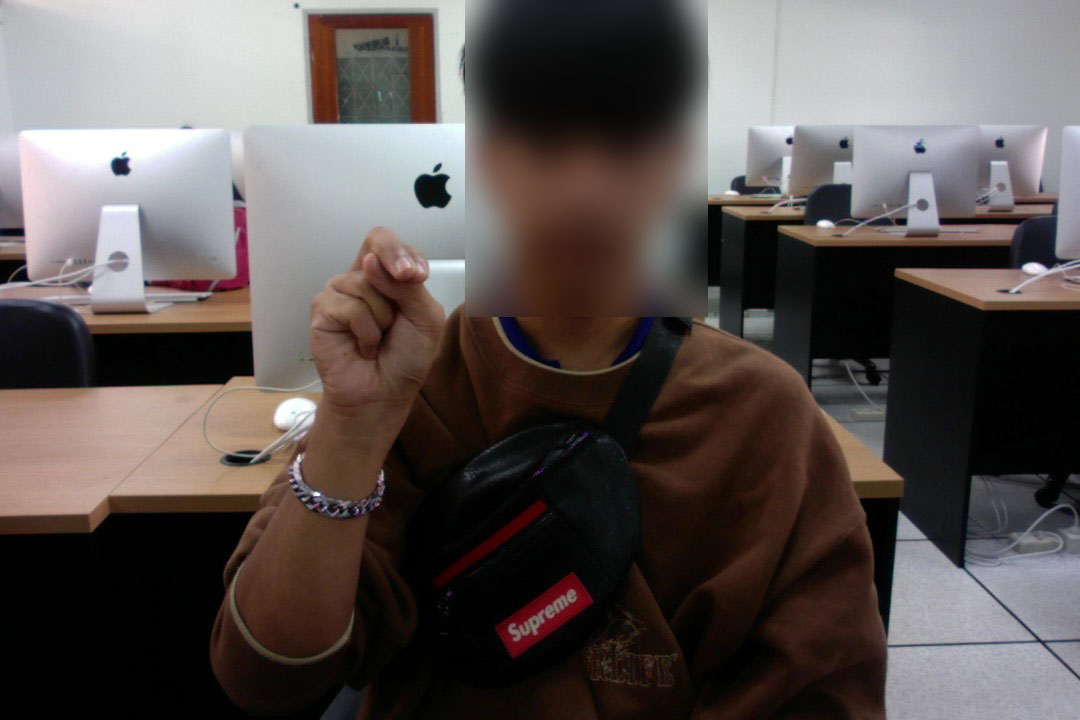nor: (297, 218, 453, 432)
